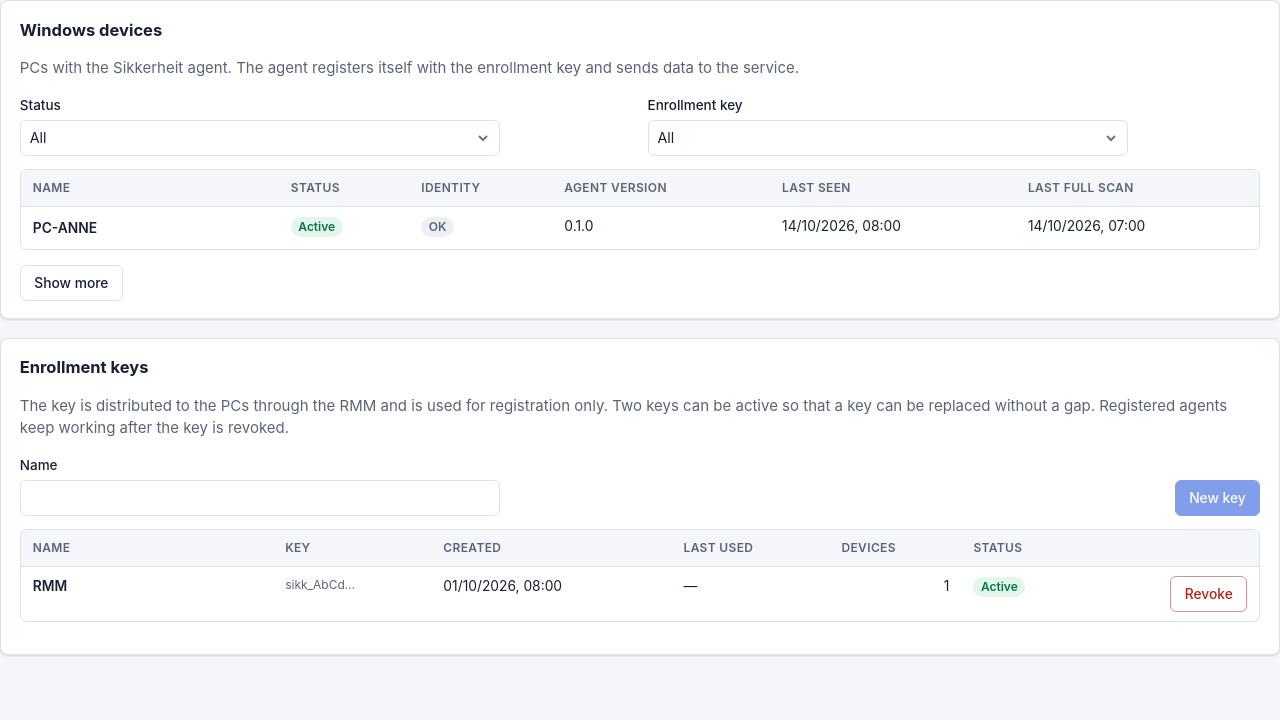
Test: DevicesTab › cannot bulk revoke an incomplete cursor list
The image size is (1280, 720).
Select "RMM (sikk_AbCd)" in the dropdown labelled "Enrollment key". click: (888, 138)
box: [648, 120, 1128, 156]
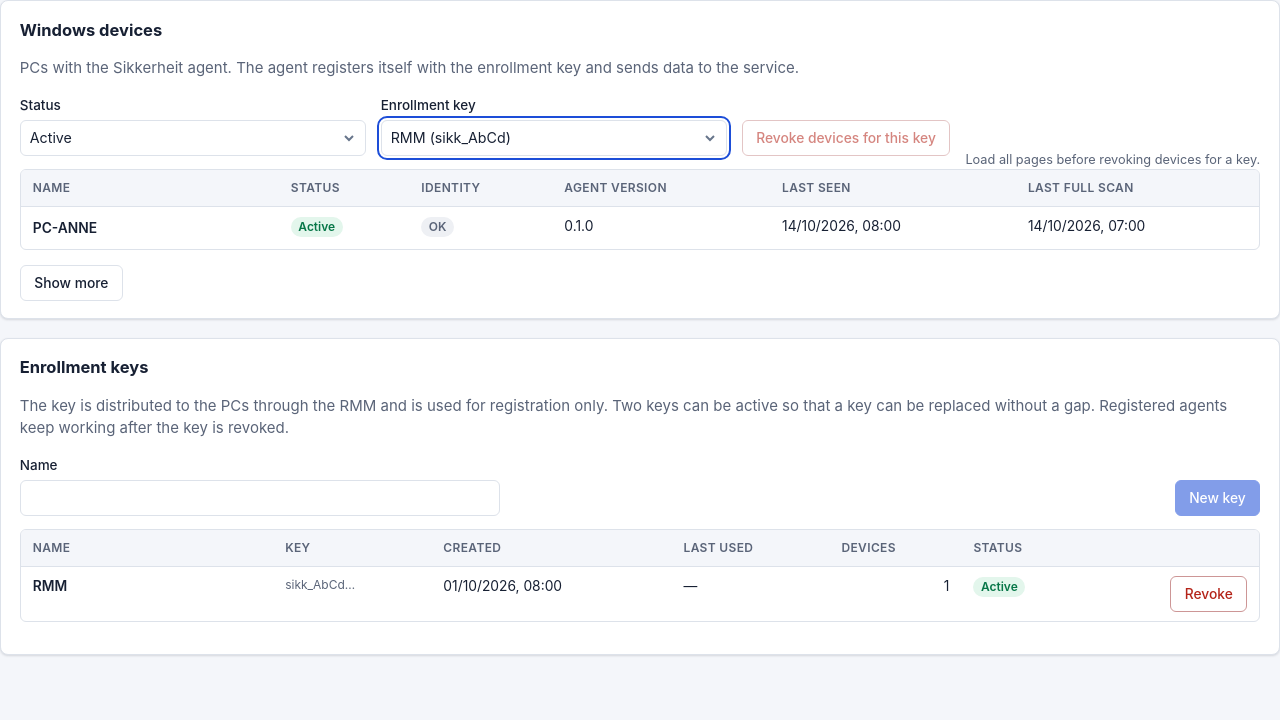
Expected: the button "Revoke devices for this key" is disabled, [742, 120, 950, 156]
